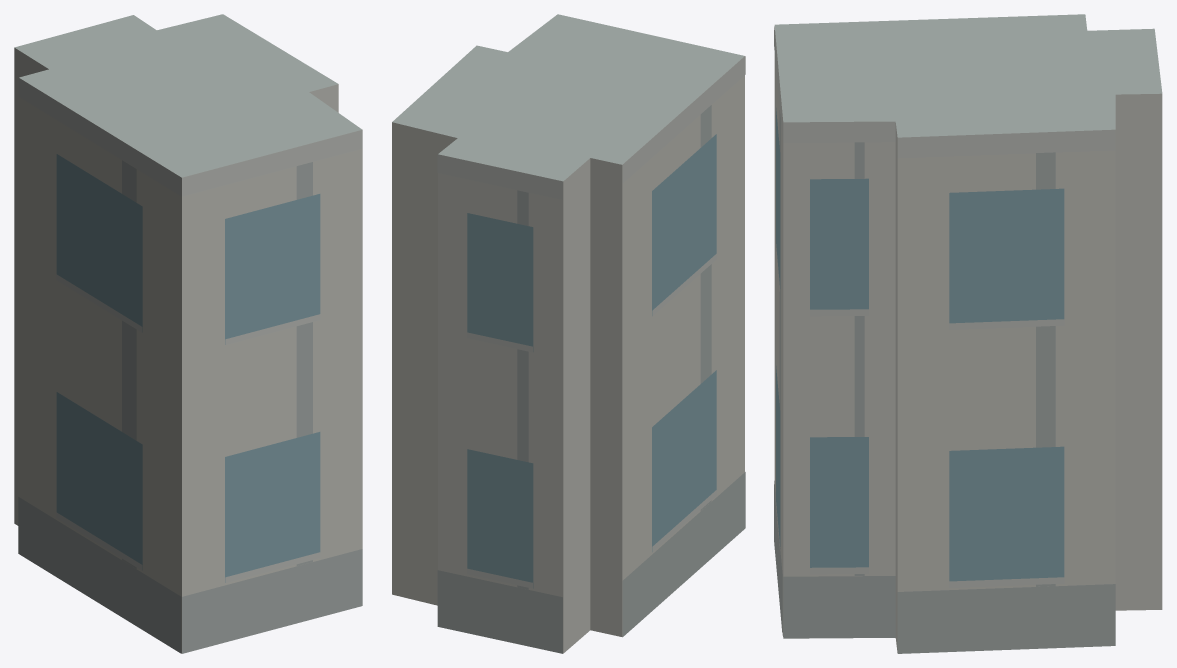
The model's file is survey-upis-32914228.glb.
3 renders of one model, left to right at view 1: azimuth 30°, elevation 25°; view 2: azimuth 150°, elevation 25°; view 3: azimuth 270°, elevation 25°, orthographic. The views are drawn at different scales.
Visible parts, largest first — view 1: survey-upis-32914228.tmp; view 2: survey-upis-32914228.tmp; view 3: survey-upis-32914228.tmp.
Part boxes in pixels (<box>): survey-upis-32914228.tmp: <box>14,14,362,653</box>; survey-upis-32914228.tmp: <box>392,14,745,653</box>; survey-upis-32914228.tmp: <box>774,14,1162,653</box>.
Bounding box in the file's own units: 3.14 × 6.1 × 4.17.
